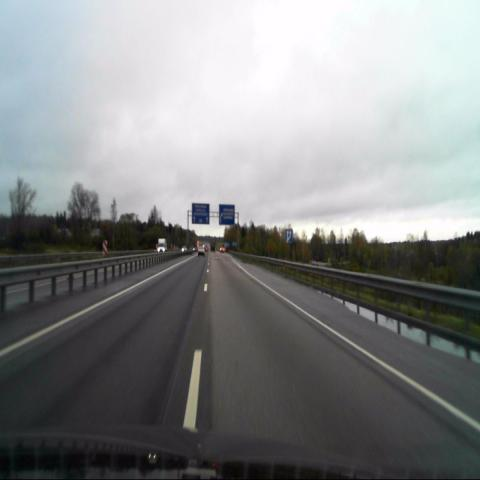5_15_3: (285, 229, 293, 242)
